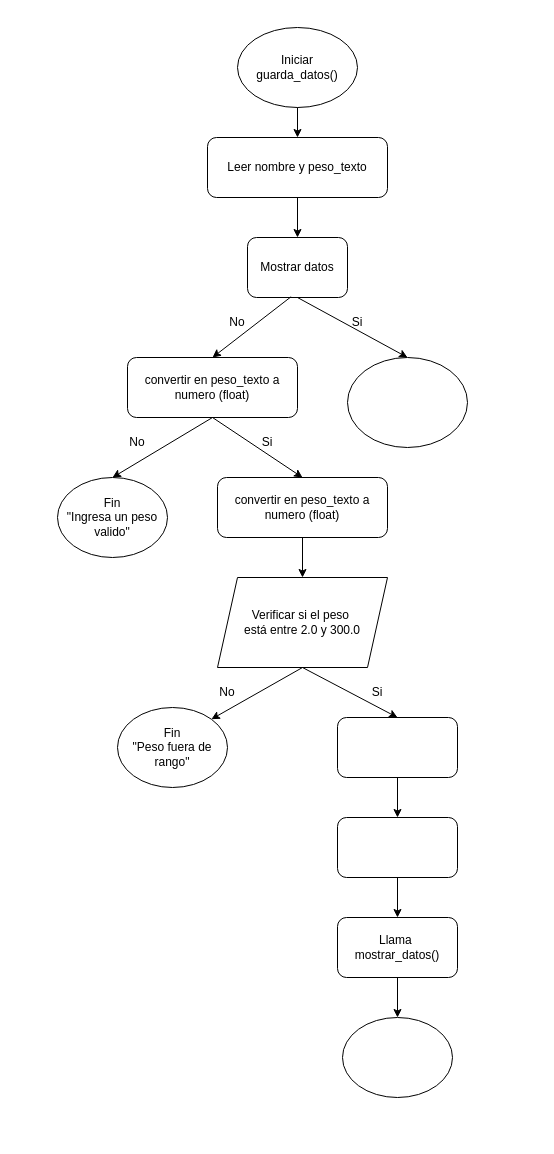
This 554x1154 diagram has some shape labels left out. Here are the shapes that lost their labels. From the top down, the centre of each, then its label:
point 407,402: Fin "Completa ambos campos"
point 397,747: Lo guarda en datos_guardados[ ]
point 397,847: Muestra "¡Datos guardados!"
point 397,1057: Fin
